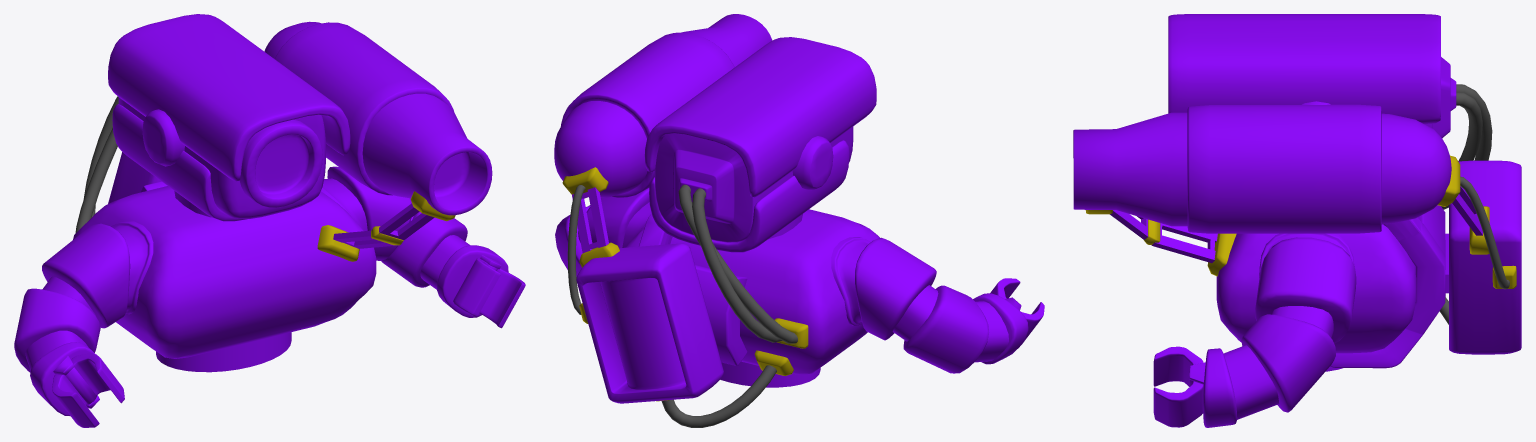
Rendered from UpperBodyV3.fbx.
3 renders of one model, left to right at view 1: azimuth 30°, elevation 25°; view 2: azimuth 150°, elevation 25°; view 3: azimuth 270°, elevation 25°, orthographic. The views are drawn at different scales.
Parts seen in each view (by area): view 1: testfbx; view 2: testfbx; view 3: testfbx.
Boxes of the visible parts, <box> form: testfbx: <box>14,14,525,427</box>; testfbx: <box>554,14,1044,427</box>; testfbx: <box>1073,14,1521,427</box>.
Bounding box in the file's own units: 509 × 312 × 393.
